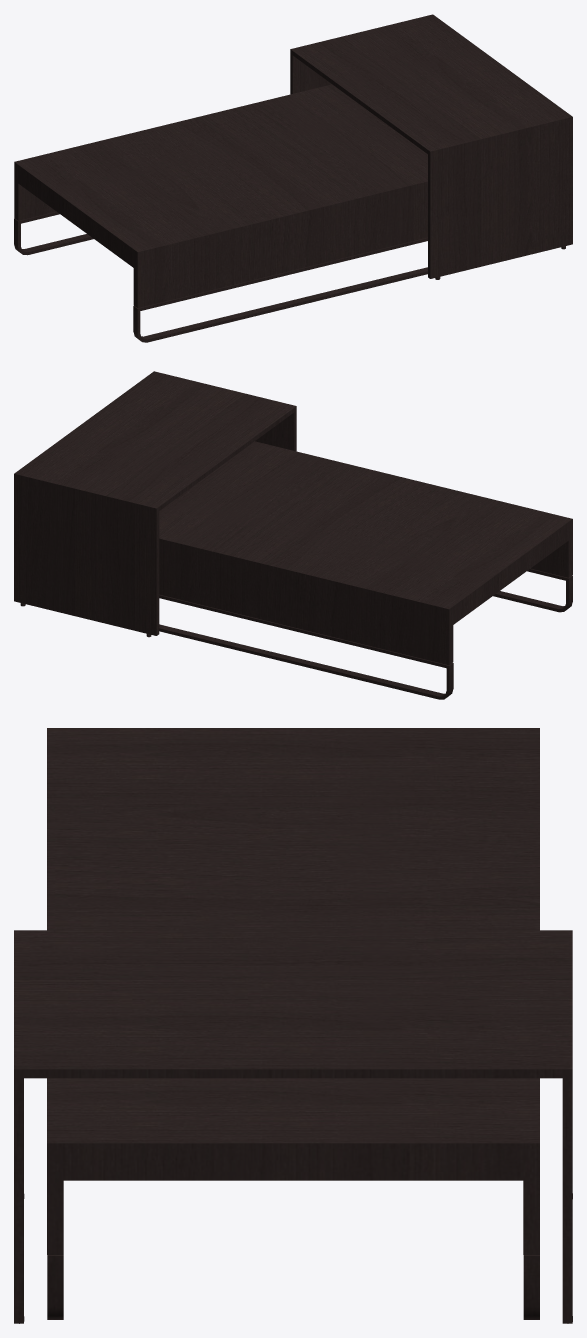
Rendered from coffee_table_3.obj.
The picture shows the model from 3 angles, top to bottom: view 1: azimuth 30°, elevation 25°; view 2: azimuth 150°, elevation 25°; view 3: azimuth 270°, elevation 25°; orthographic projection. The views are drawn at different scales.
Parts seen in each view (by area): view 1: base_1, base_2, metal; view 2: base_1, base_2, metal; view 3: base_1, base_2, metal.
Boxes of the visible parts, x1,y1,x2,y2 form: base_1: [14, 84, 427, 307]; base_2: [290, 14, 572, 278]; metal: [14, 211, 427, 342]; base_1: [159, 441, 572, 665]; base_2: [14, 371, 296, 635]; metal: [159, 568, 572, 699]; base_1: [47, 728, 539, 1254]; base_2: [14, 930, 572, 1323]; metal: [47, 1255, 539, 1319].
Bounding box in the file's own units: 1.2 × 0.35 × 0.6806.
Materials: 1 (1 with a texture image).
